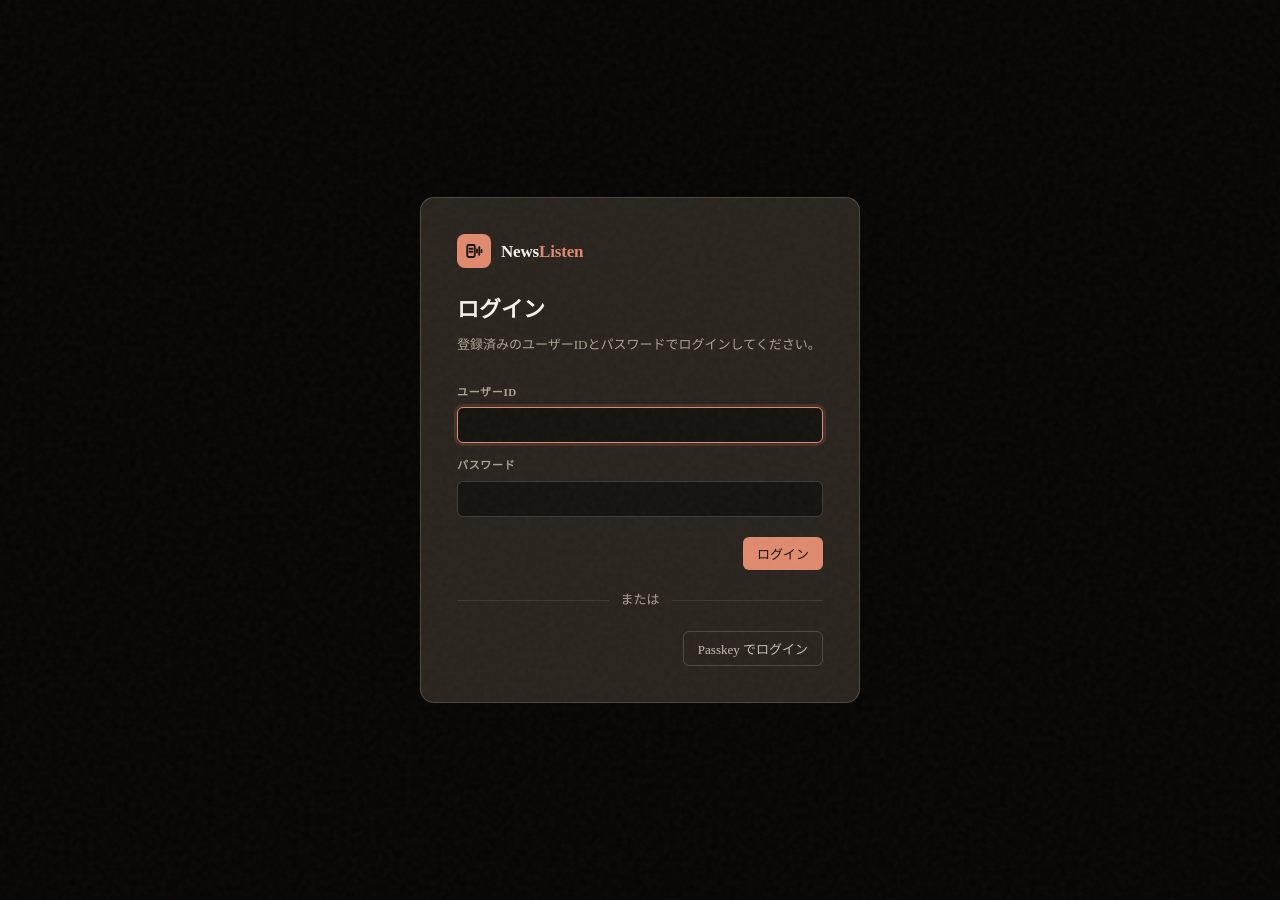
LoginModal › shows validation error when fields are empty
Click the button "ログイン" at (783, 553), box [743,537,823,570]
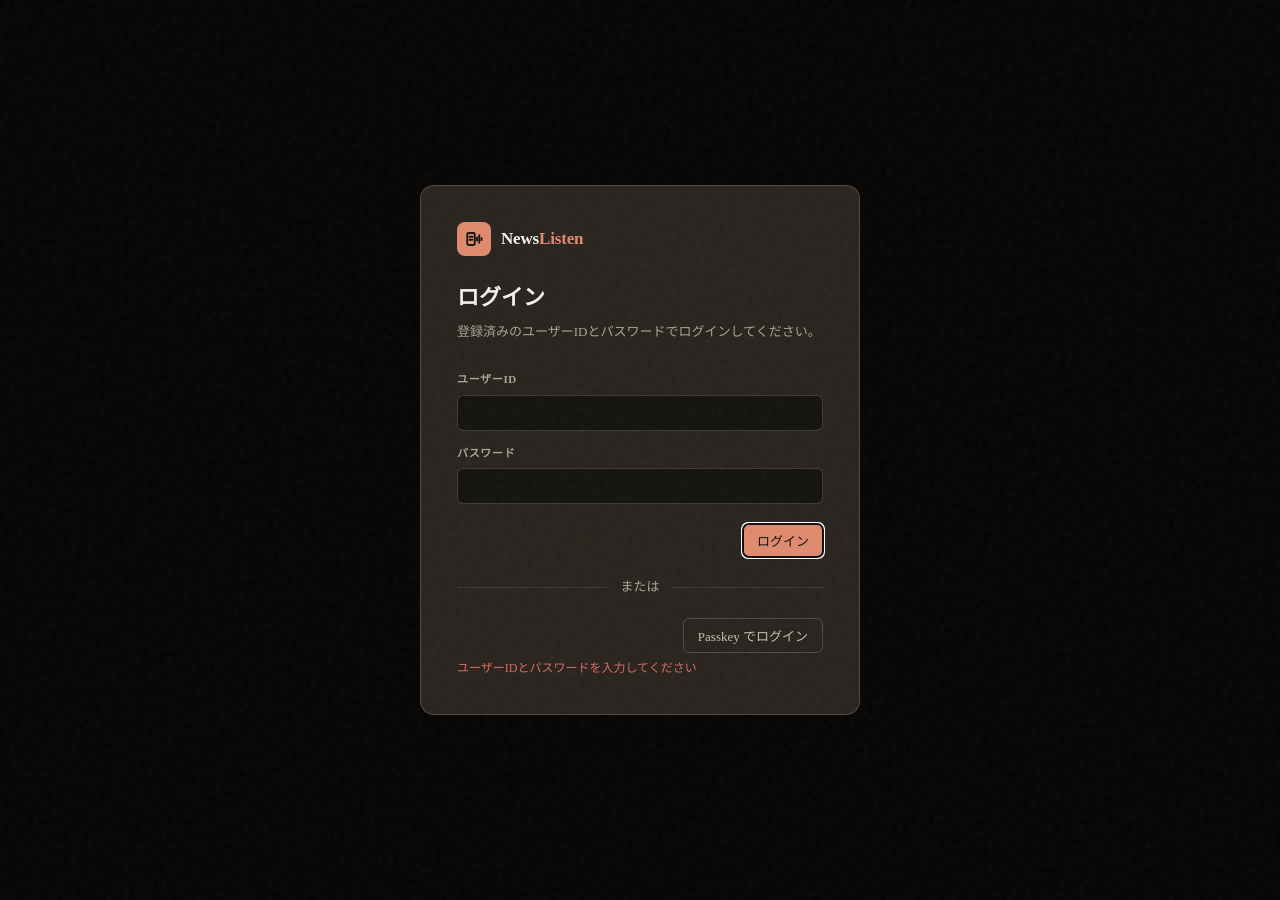
Now the text "ユーザーIDとパスワードを入力してください" is shown, box [457,661,697,675]
